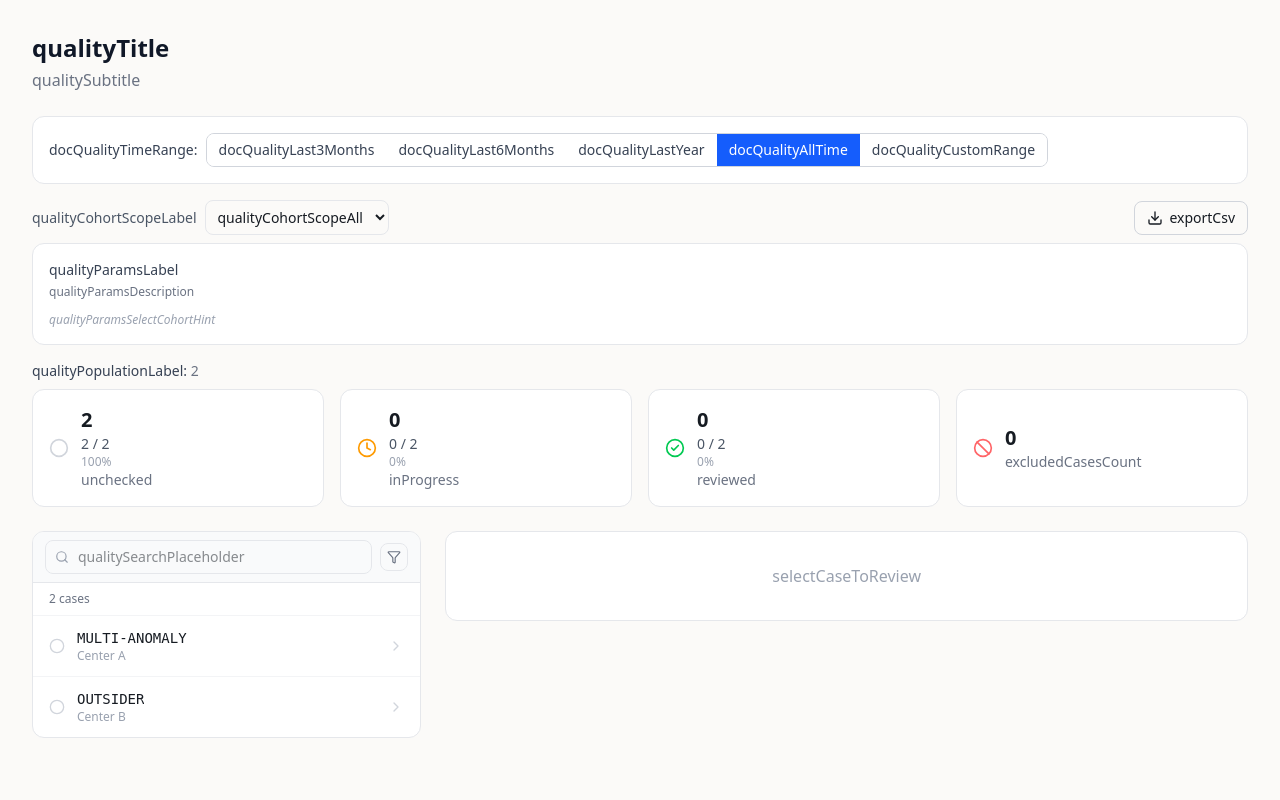
Scenario: QualityPage — cohort scope restricts case list › (c) Switching back to "All cases" restores both cases
// Scope to cohort first
Step 1. Select "Visus Only Cohort" in the dropdown → (296, 218), box [204,200,388,235]
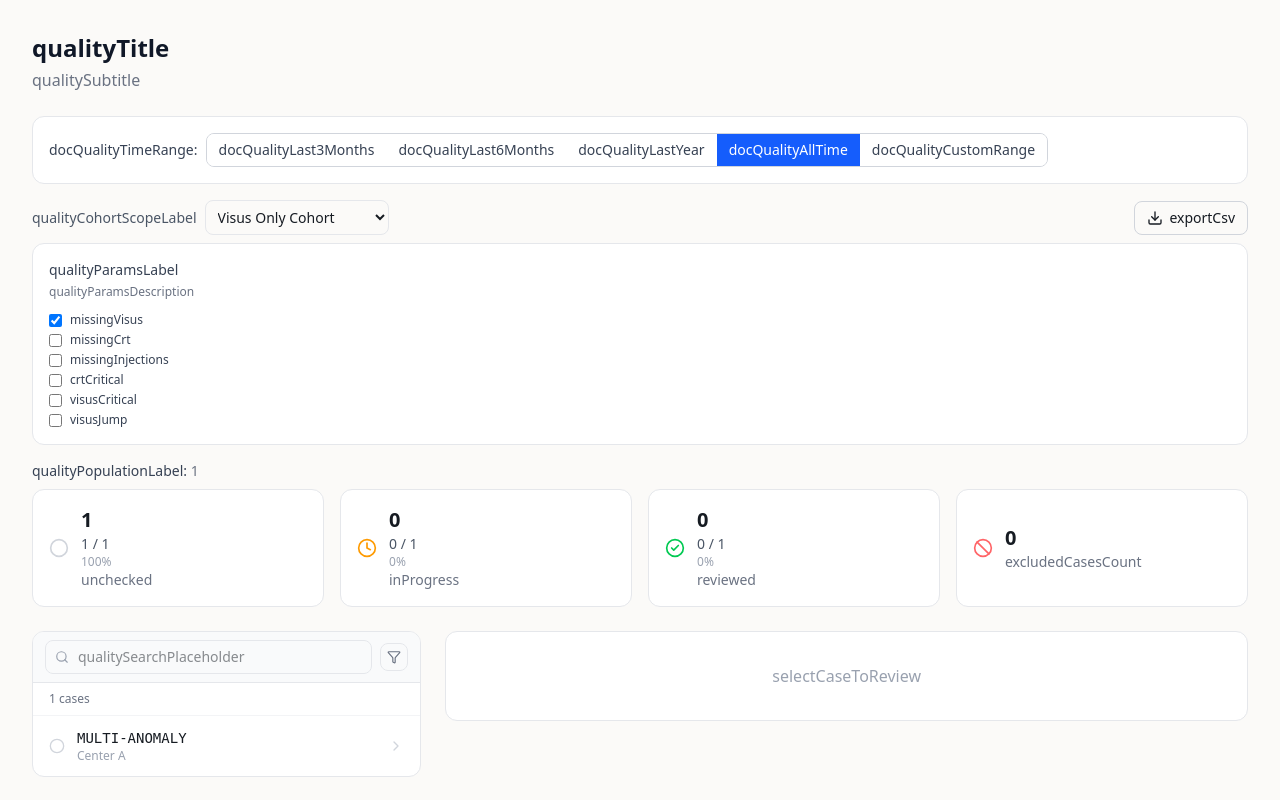
Now the button "OUTSIDER" is gone
// Restore to 'all'
Step 2. Select "qualityCohortScopeAll" in the dropdown → (296, 218), box [204,200,388,235]
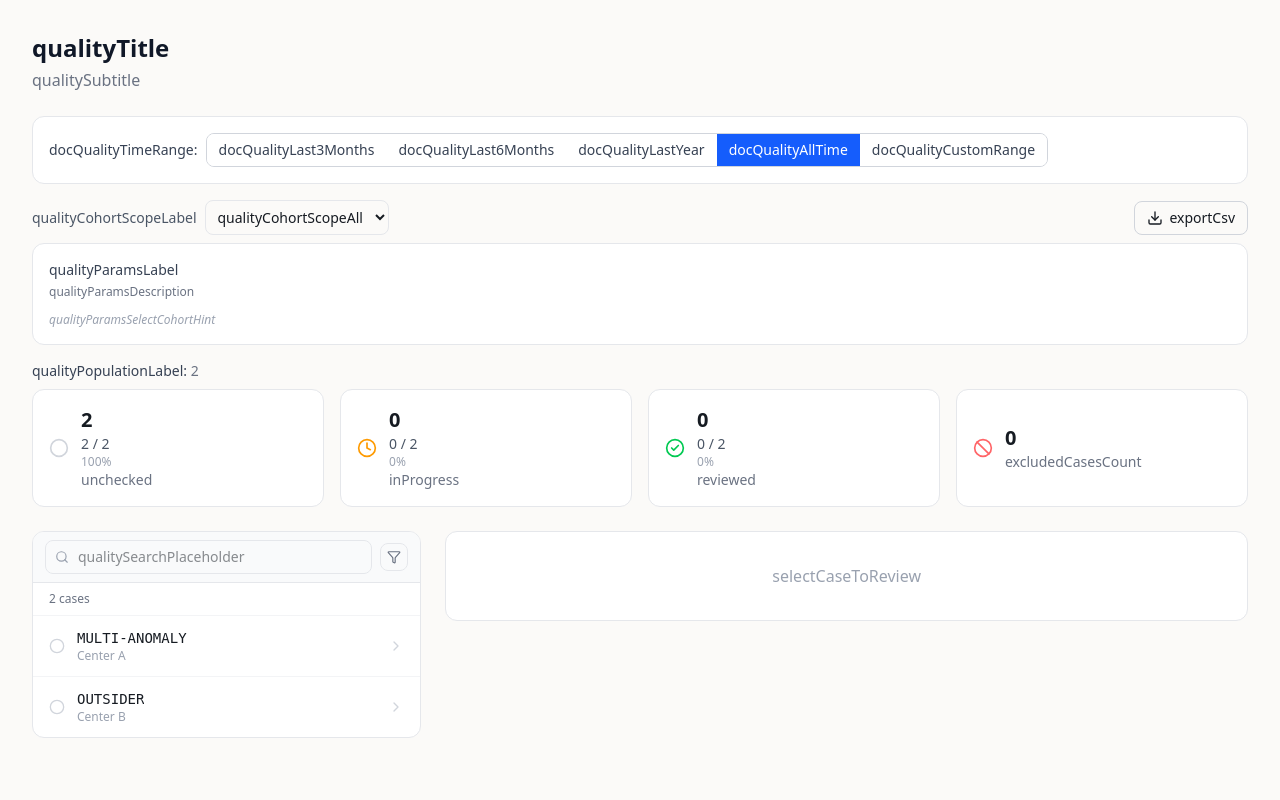
Expected: the text "MULTI-ANOMALY" is shown, [77,628,187,648]
Now the text "OUTSIDER" is shown, box [77,689,144,709]
